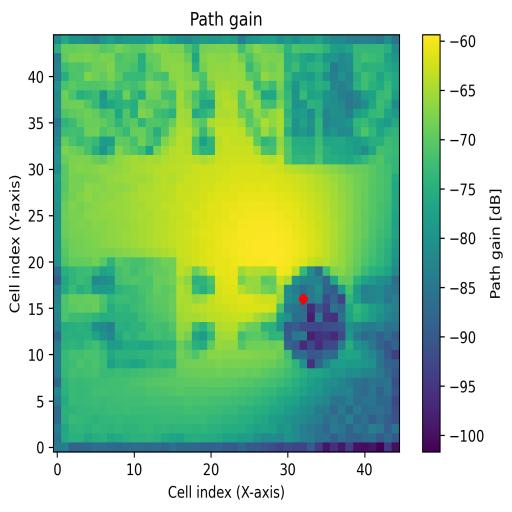Concrete: (284, 52, 376, 165)
Glass: (114, 57, 177, 156)
Metal: (277, 265, 347, 370)
Wood: (100, 259, 178, 368)
